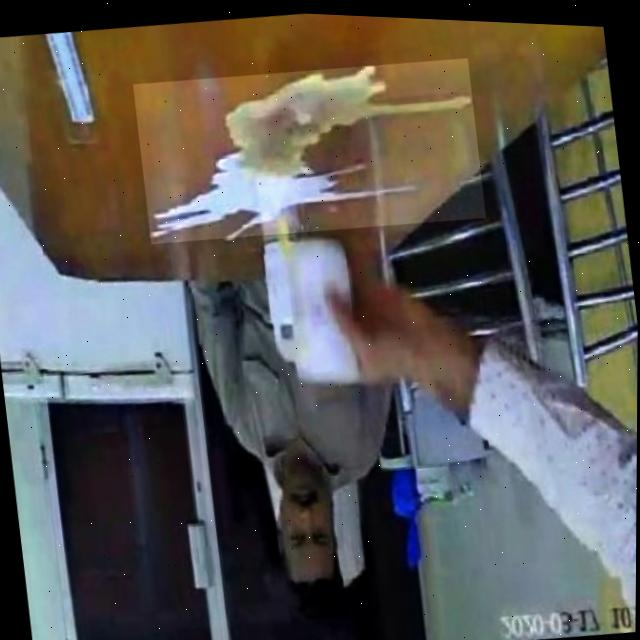spillage: (151, 63, 472, 235)
